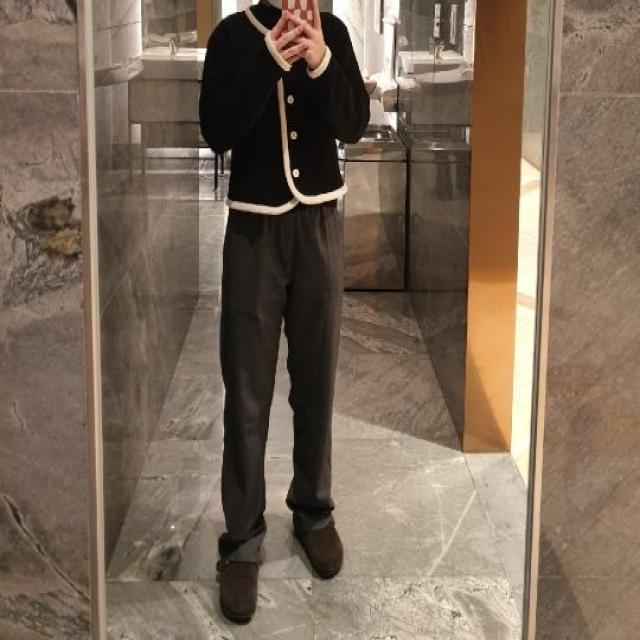cardigan: (197, 8, 367, 215)
denimpants: (219, 194, 343, 562)
